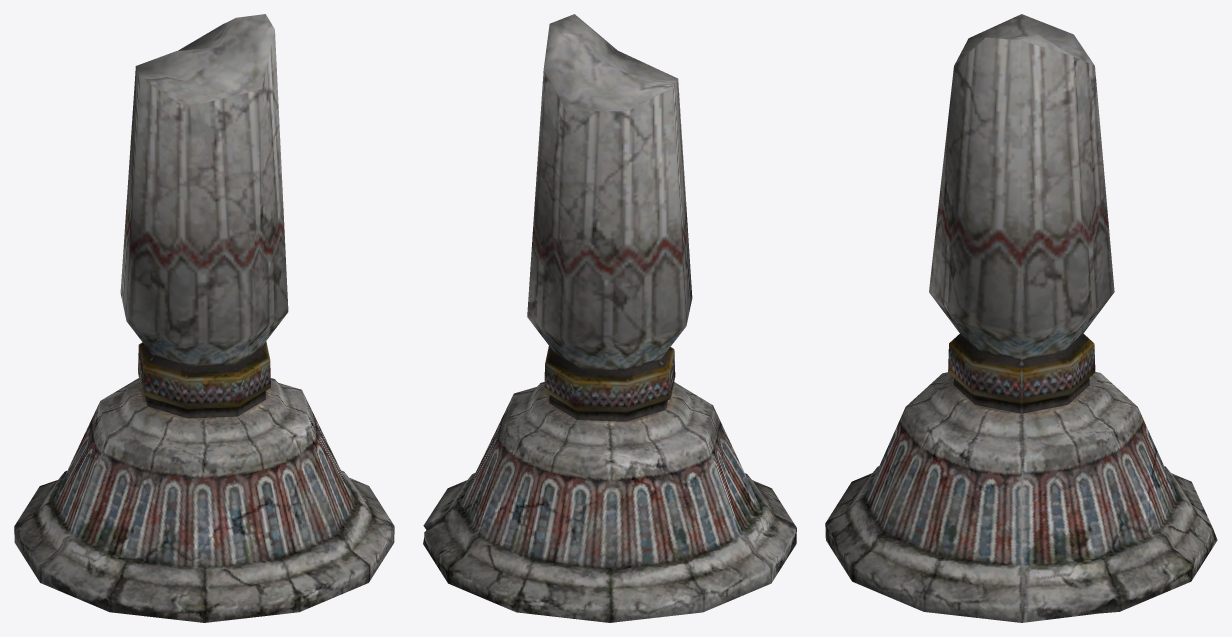
File: SM_EN_2010_shizhuzi03.FBX
The picture shows the model from 3 angles, left to right: view 1: azimuth 30°, elevation 25°; view 2: azimuth 150°, elevation 25°; view 3: azimuth 270°, elevation 25°; orthographic projection. The views are drawn at different scales.
Parts seen in each view (by area): view 1: SM_EN_2010_shizhuzi03; view 2: SM_EN_2010_shizhuzi03; view 3: SM_EN_2010_shizhuzi03.
Boxes of the visible parts, x1,y1,x2,y2 form: SM_EN_2010_shizhuzi03: (14, 14, 394, 622); SM_EN_2010_shizhuzi03: (423, 14, 796, 622); SM_EN_2010_shizhuzi03: (825, 14, 1217, 622).
Size of the model in its own units: 101 by 151 by 101.
